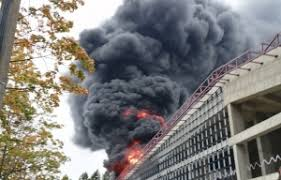fire: (78, 98, 228, 168)
